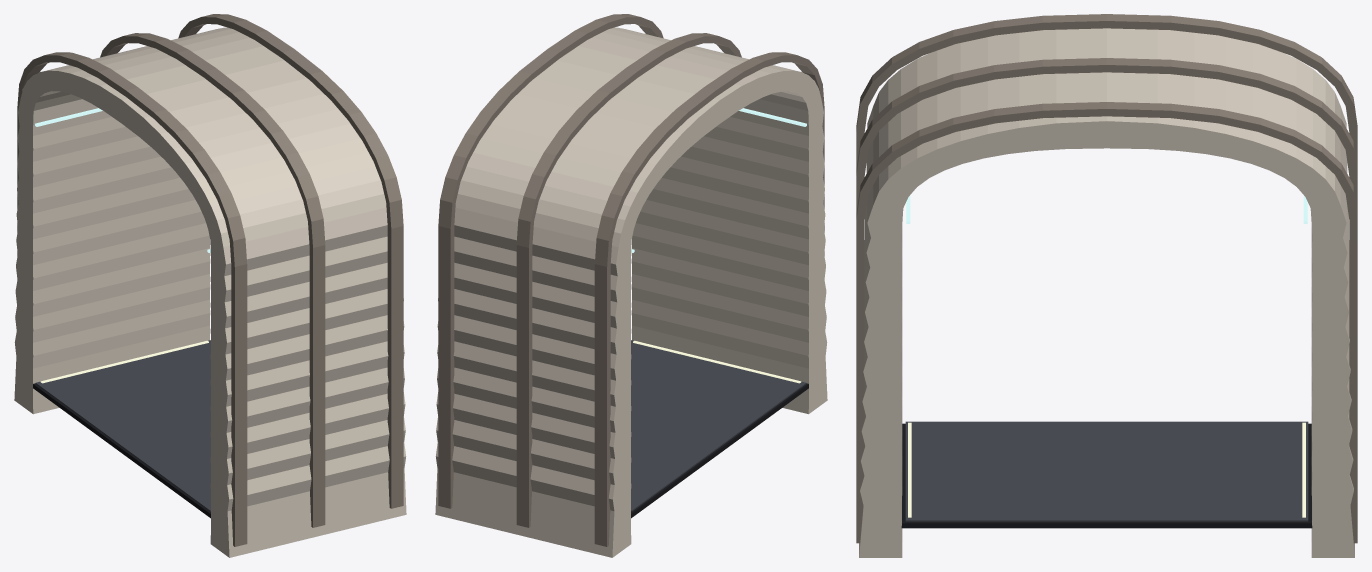
The model's file is Tunnel0.fbx.
3 renders of one model, left to right at view 1: azimuth 30°, elevation 25°; view 2: azimuth 150°, elevation 25°; view 3: azimuth 270°, elevation 25°, orthographic. The views are drawn at different scales.
Parts seen in each view (by area): view 1: Tunnel0 solid, Tunnel0 trim; view 2: Tunnel0 solid, Tunnel0 trim; view 3: Tunnel0 trim, Tunnel0 solid.
Boxes of the visible parts, <box> form: Tunnel0 solid: <box>14,27,406,557</box>; Tunnel0 trim: <box>17,14,403,546</box>; Tunnel0 solid: <box>435,27,827,557</box>; Tunnel0 trim: <box>438,14,824,546</box>; Tunnel0 trim: <box>856,14,1357,543</box>; Tunnel0 solid: <box>859,28,1354,557</box>.
Bounding box in the file's own units: 1.72 × 3.6 × 3.66.
